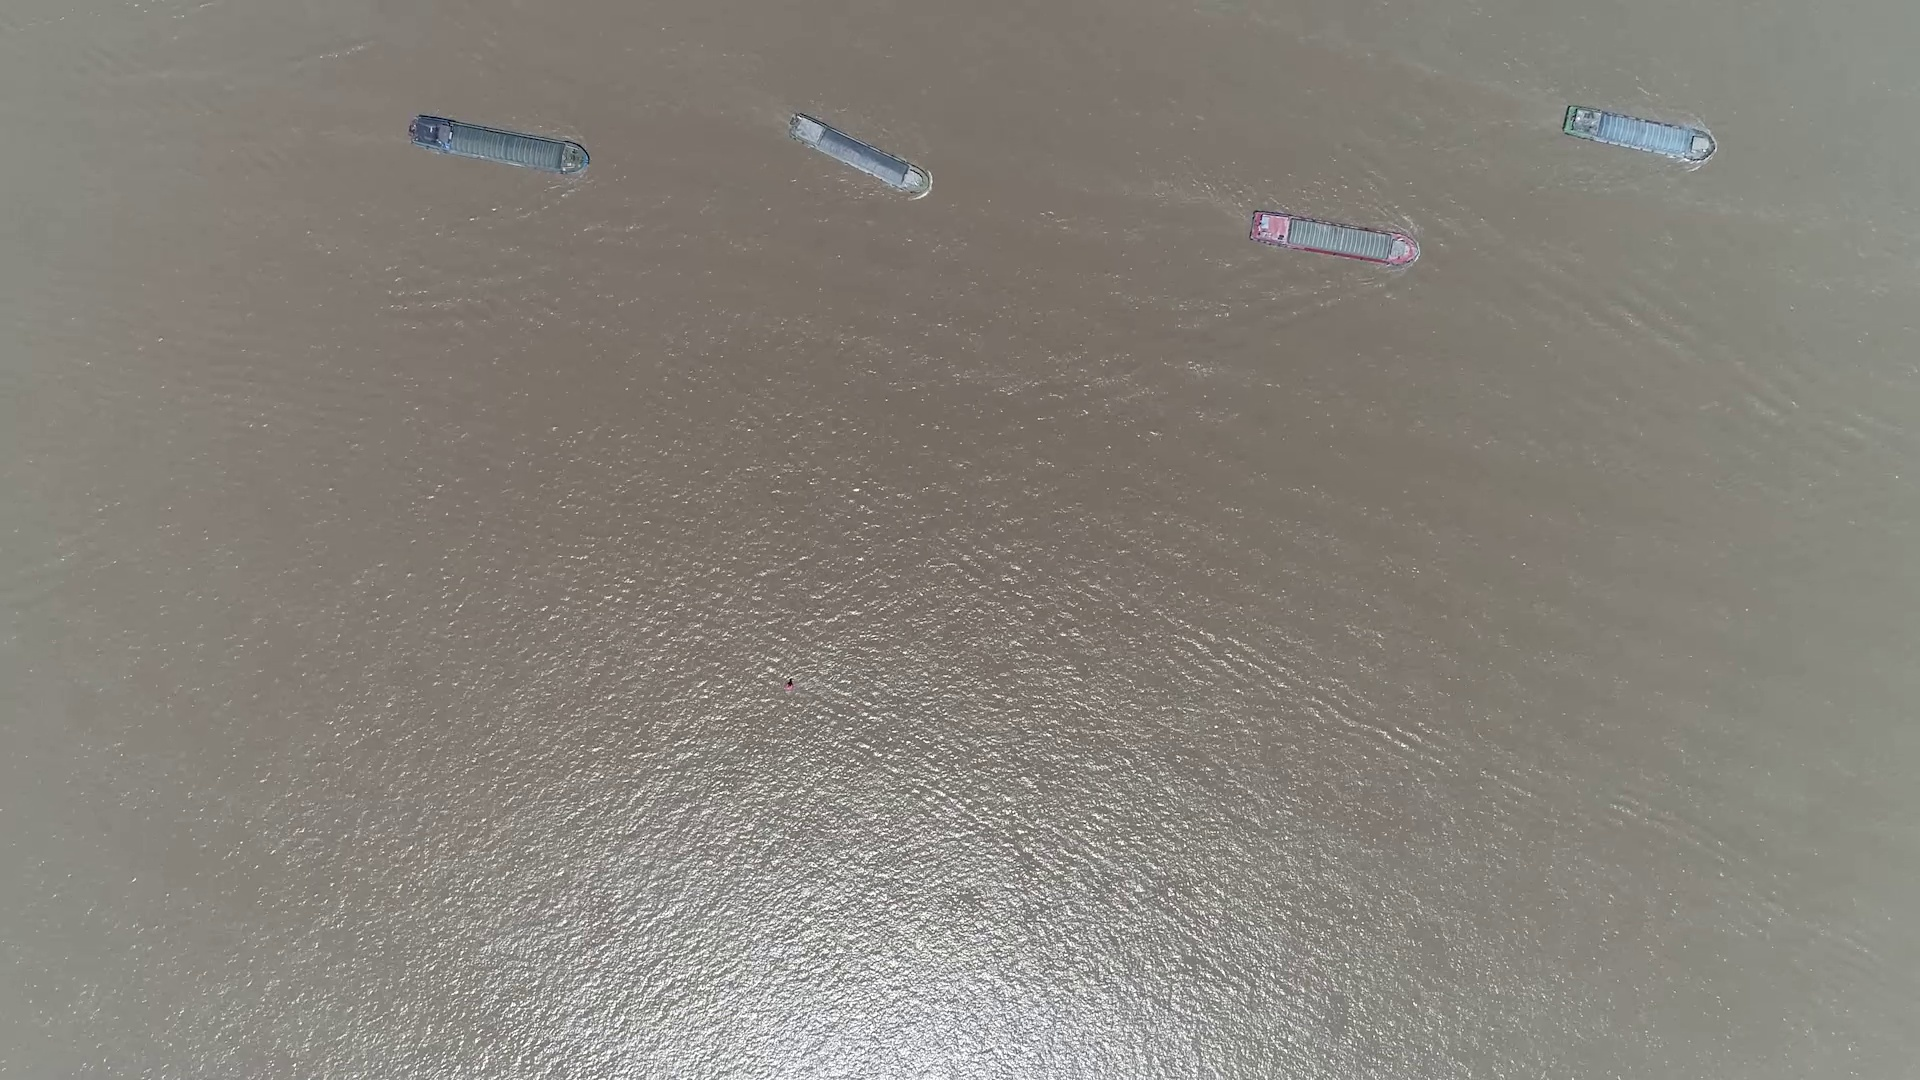ship: (787, 115, 928, 195), (409, 116, 588, 174), (1247, 212, 1418, 265), (1561, 109, 1712, 161)
